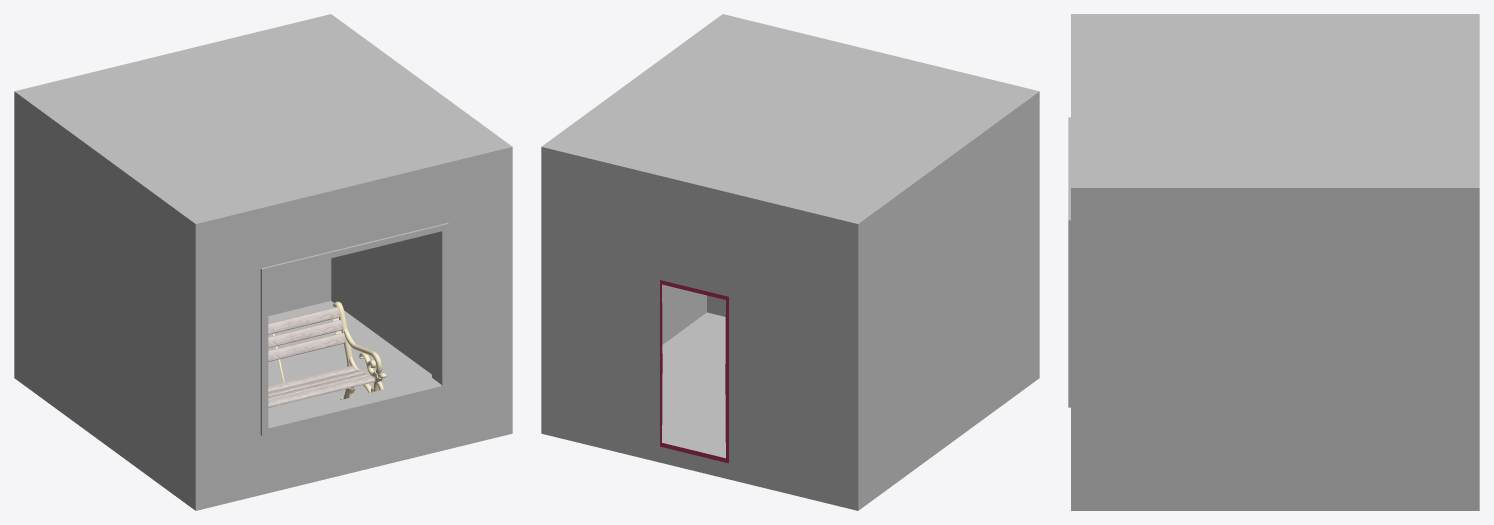
The model's file is Cena-Banquinho-Quadro.fbx.
3 views of the same model, side by side, from view 1: azimuth 30°, elevation 25°; view 2: azimuth 150°, elevation 25°; view 3: azimuth 270°, elevation 25° (orthographic). The views are drawn at different scales.
Parts seen in each view (by area): view 1: Base-Bench, Base-Bench.001, Bench; view 2: Base-Bench, Base-Bench.001, Painting.001; view 3: Base-Bench.
Part boxes in pixels (x1,y1,x2,y2): Base-Bench: [14, 14, 512, 510]; Base-Bench.001: [268, 301, 431, 417]; Bench: [268, 301, 386, 407]; Base-Bench: [541, 14, 1039, 510]; Base-Bench.001: [662, 312, 725, 458]; Painting.001: [660, 280, 728, 463]; Base-Bench: [1068, 14, 1479, 510].
Bounding box in the file's own units: 759 × 657 × 758.
